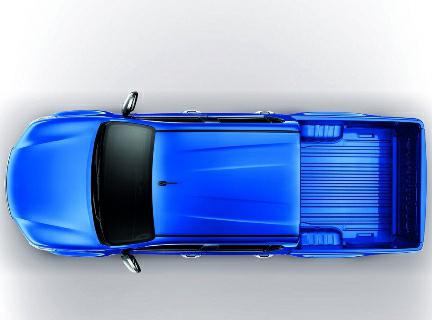丰田-Hilux: (6, 91, 428, 276)
